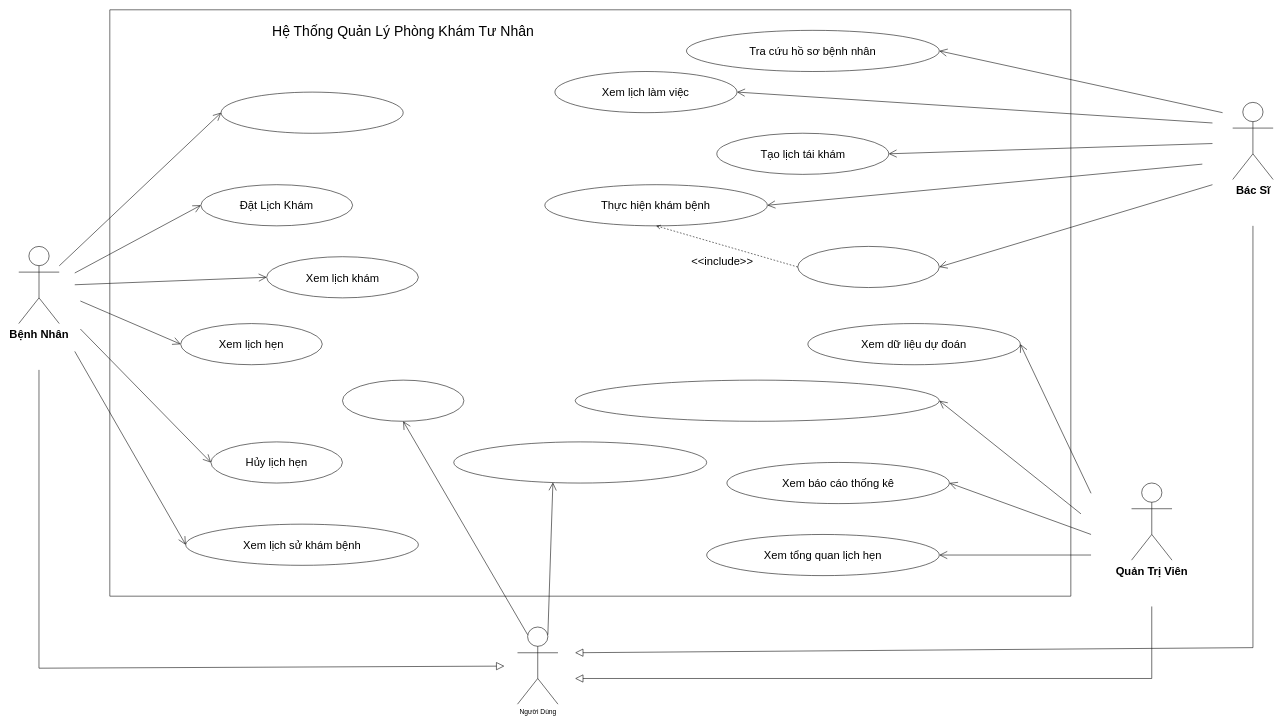
Image size: 1284x726. Some labels were removed from this diagram. Here are the shapes that lost their labels. From the top down, the centre of each, then its label:
At [312,112]: "Đăng ký tài khoản".
At [868,267]: "Kê đơn thuốc".
At [403,400]: "Đăng nhập".
At [757,400]: "Quản lý tài khoản Bác sĩ/ Bệnh Nhân".
At [580,462]: "Quản lý thông tin cá nhân".
